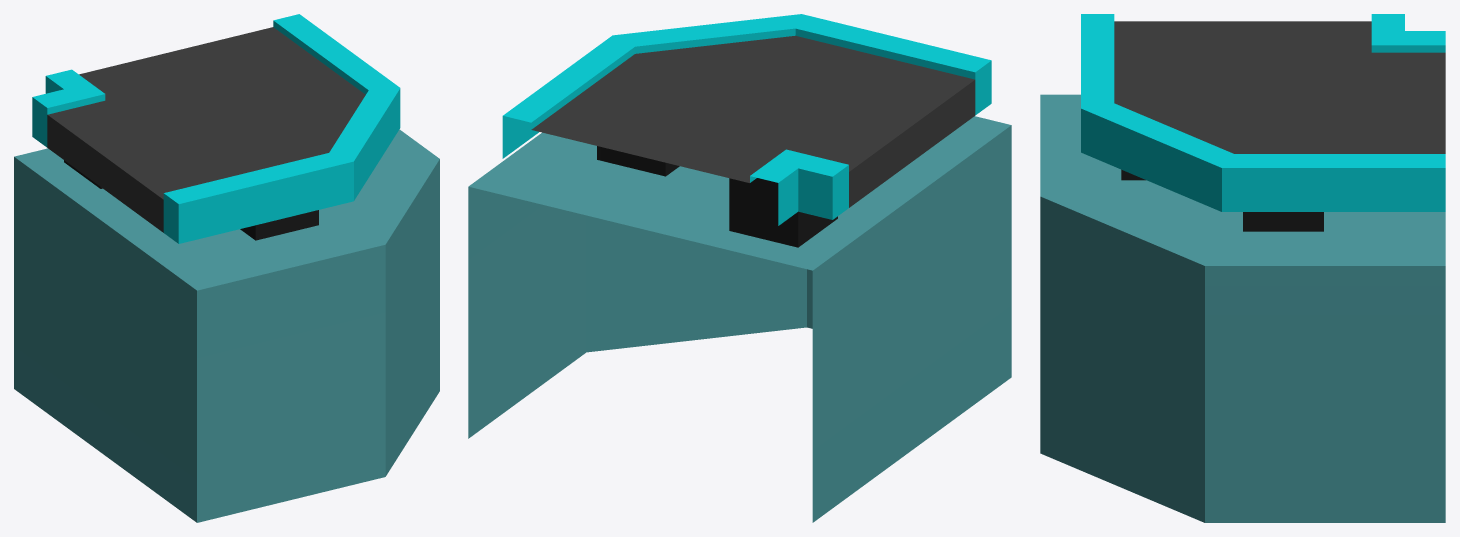
File: conveyor_corner_4.fbx
3 renders of one model, left to right at view 1: azimuth 30°, elevation 25°; view 2: azimuth 150°, elevation 25°; view 3: azimuth 270°, elevation 25°, orthographic. The views are drawn at different scales.
Parts seen in each view (by area): view 1: conveyor_corner_1.003; view 2: conveyor_corner_1.003; view 3: conveyor_corner_1.003.
Boxes of the visible parts, x1,y1,x2,y2 form: conveyor_corner_1.003: (14, 14, 439, 522); conveyor_corner_1.003: (468, 14, 1011, 522); conveyor_corner_1.003: (1040, 14, 1445, 522).
Bounding box in the file's own units: 100 × 92 × 100.
